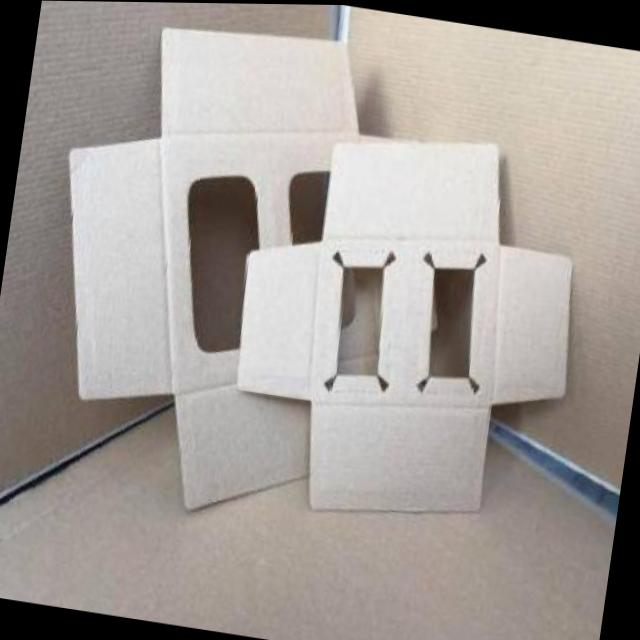box: (12, 0, 388, 550), (215, 108, 638, 553)
